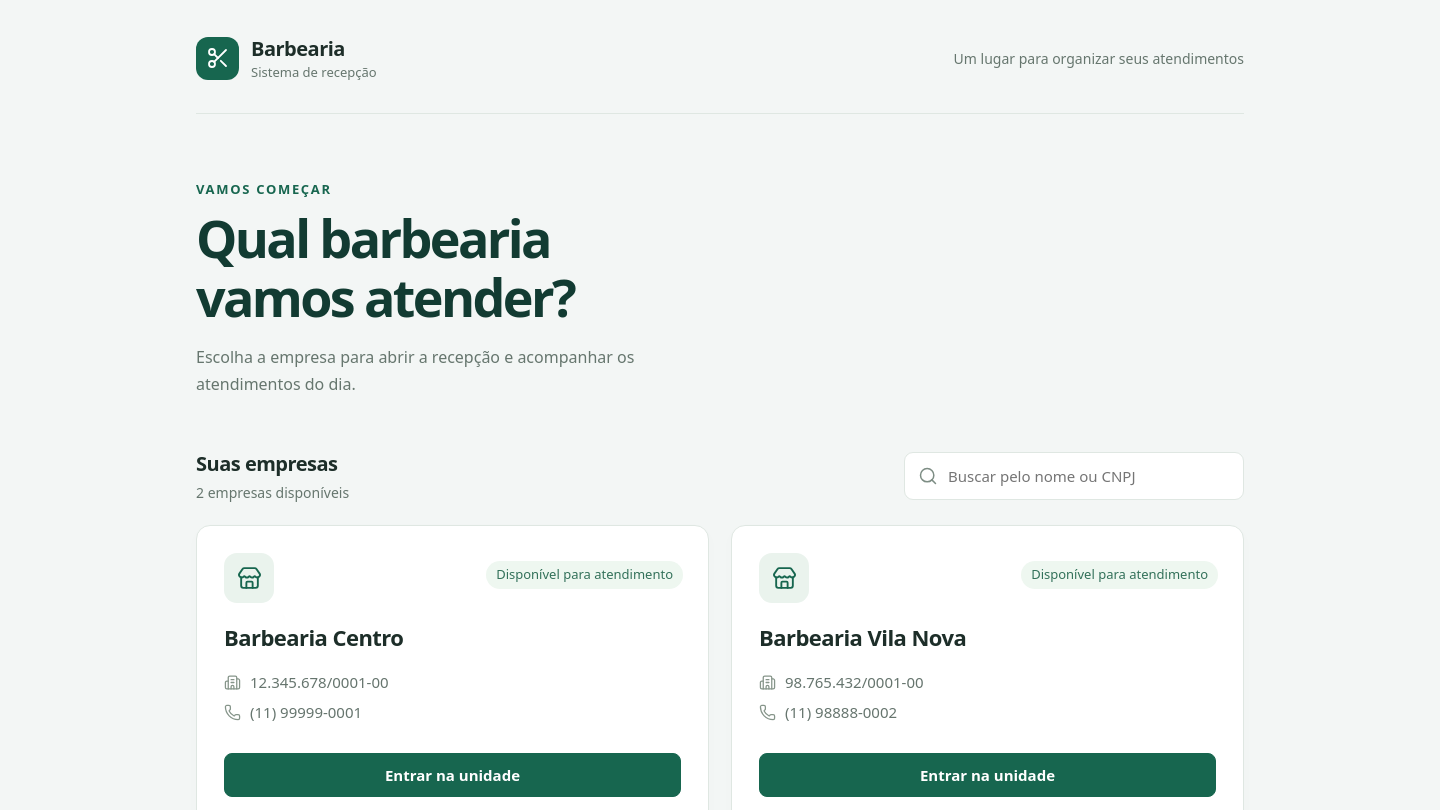
Test: Entrada e contexto de empresa › limpa o cache e a seleção ao alterar a empresa
Click the button with aria-label "Entrar na empresa Barbearia Centro" at (452, 775), box [224,753,681,797]
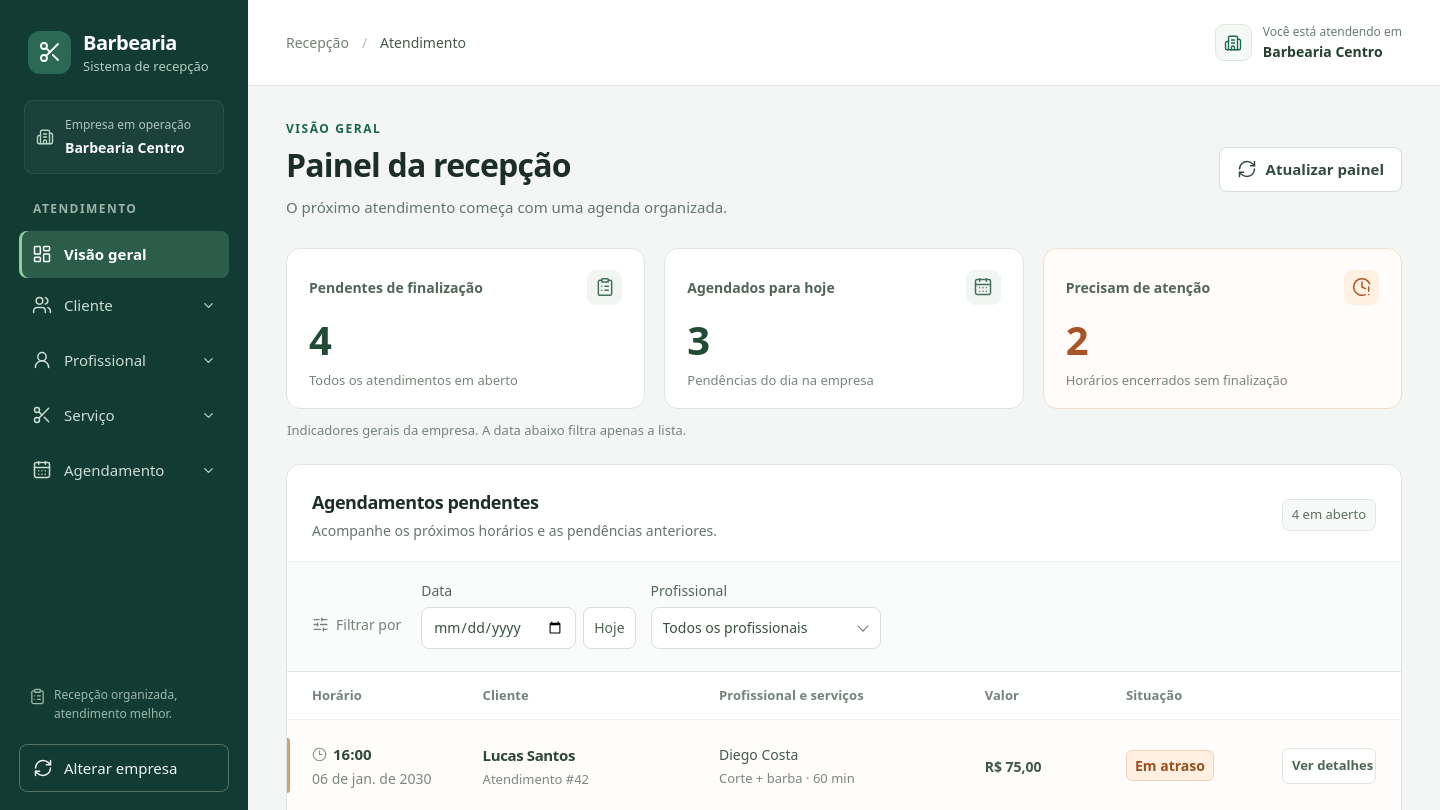
Click the button "Alterar empresa" at (124, 768), box [19,744,229,792]
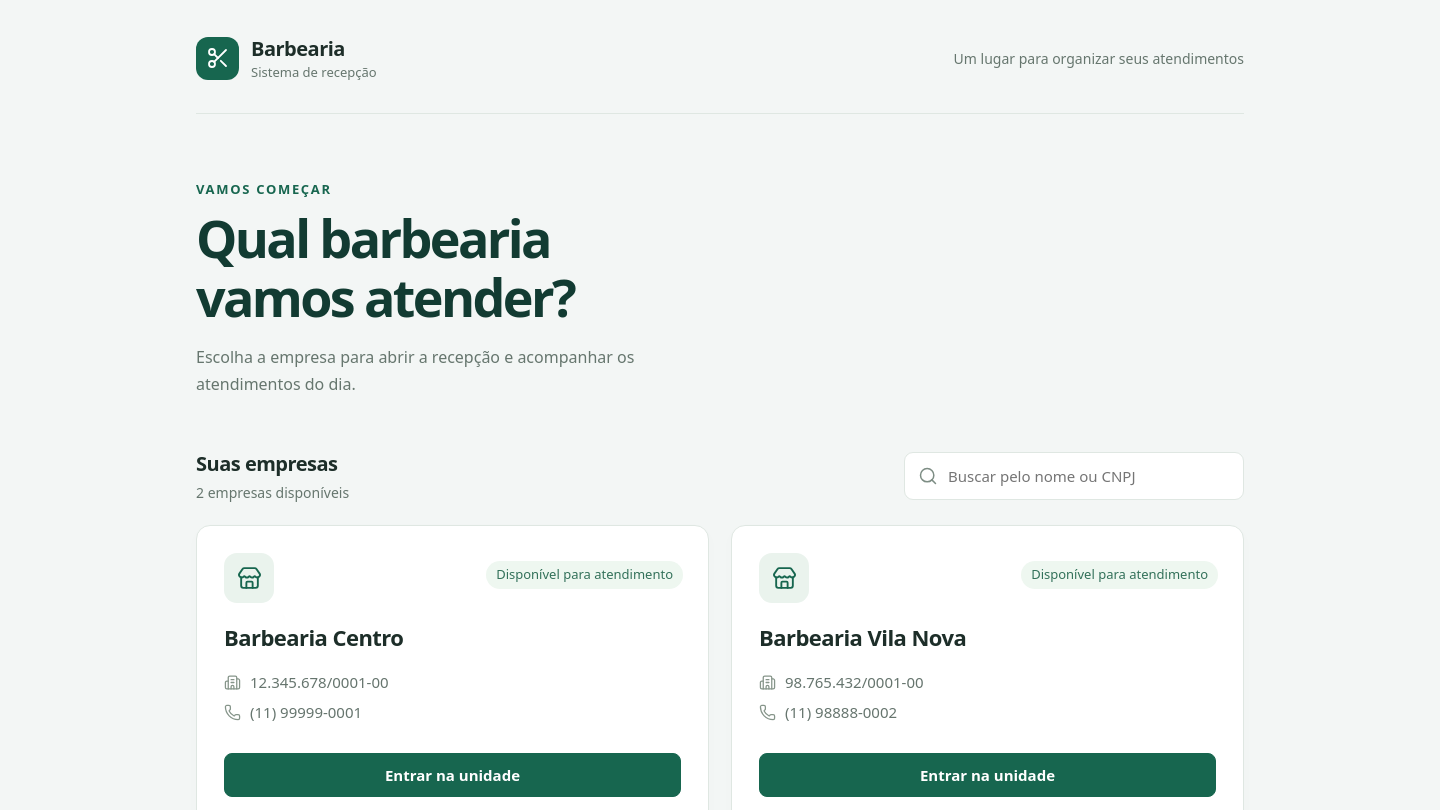
Expected: the heading "Qual barbearia" is shown, [196,202,574,332]
